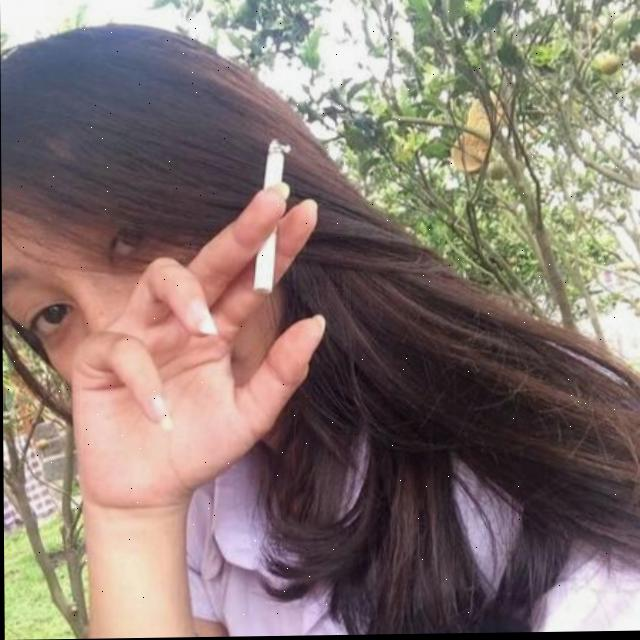cigarette: (250, 138, 293, 296)
